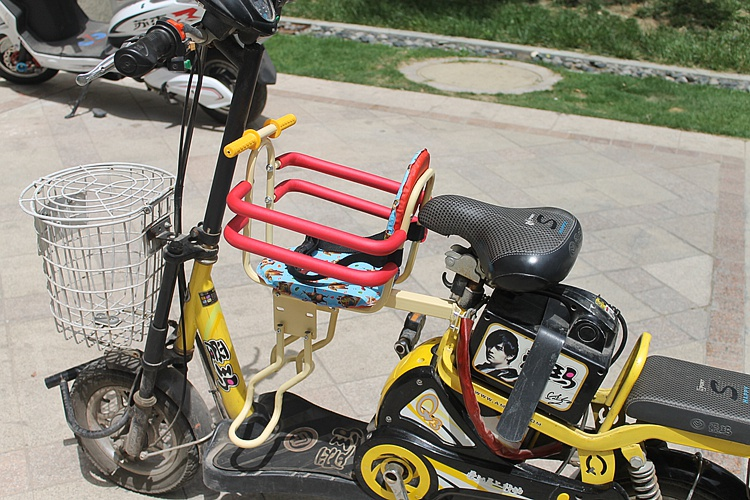non-vehicle: (22, 104, 750, 500), (1, 1, 280, 127)
